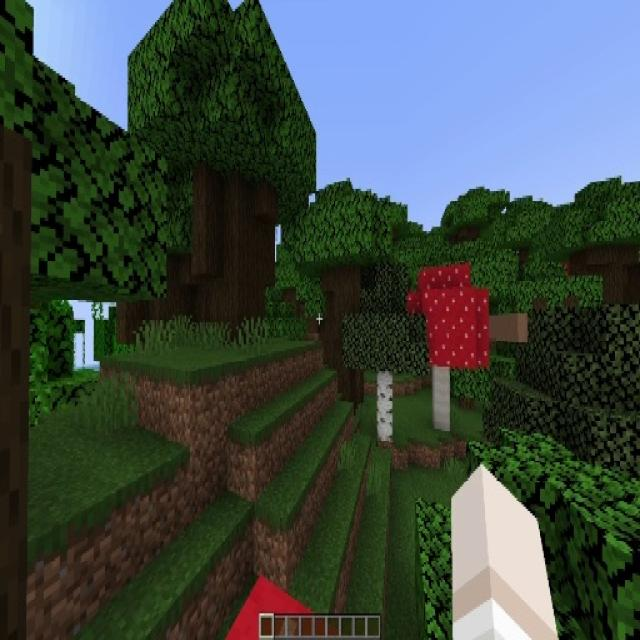birch: (343, 268, 427, 440)
birch_log: (378, 370, 392, 442)
dark_oak: (136, 4, 312, 332), (298, 189, 388, 405), (557, 180, 640, 332)
dark_oak_log: (194, 171, 270, 339), (121, 251, 186, 349), (589, 245, 637, 338), (326, 274, 360, 396)
